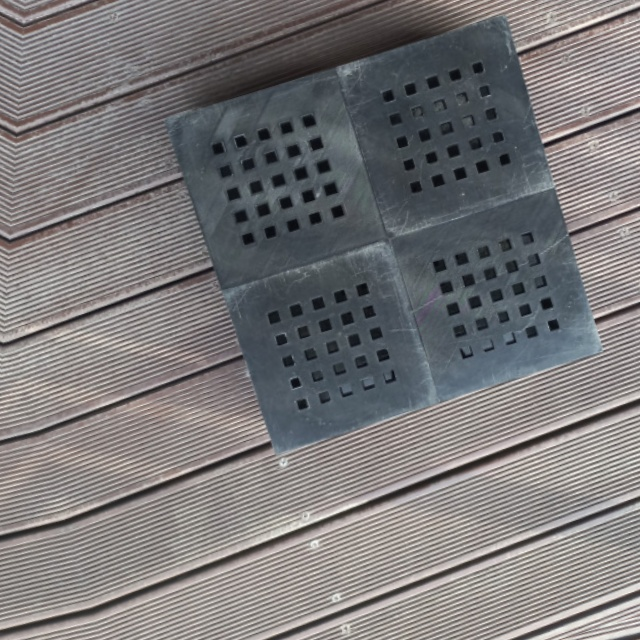pallet: (162, 12, 615, 461)
